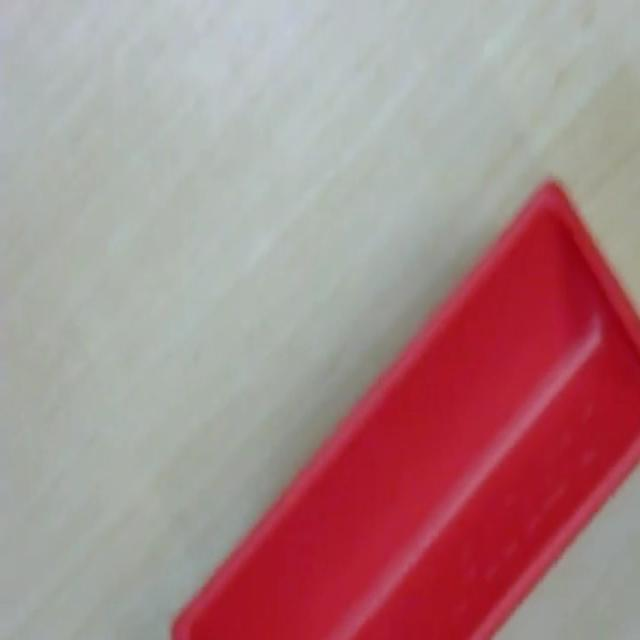red_block: (169, 175, 638, 637)
